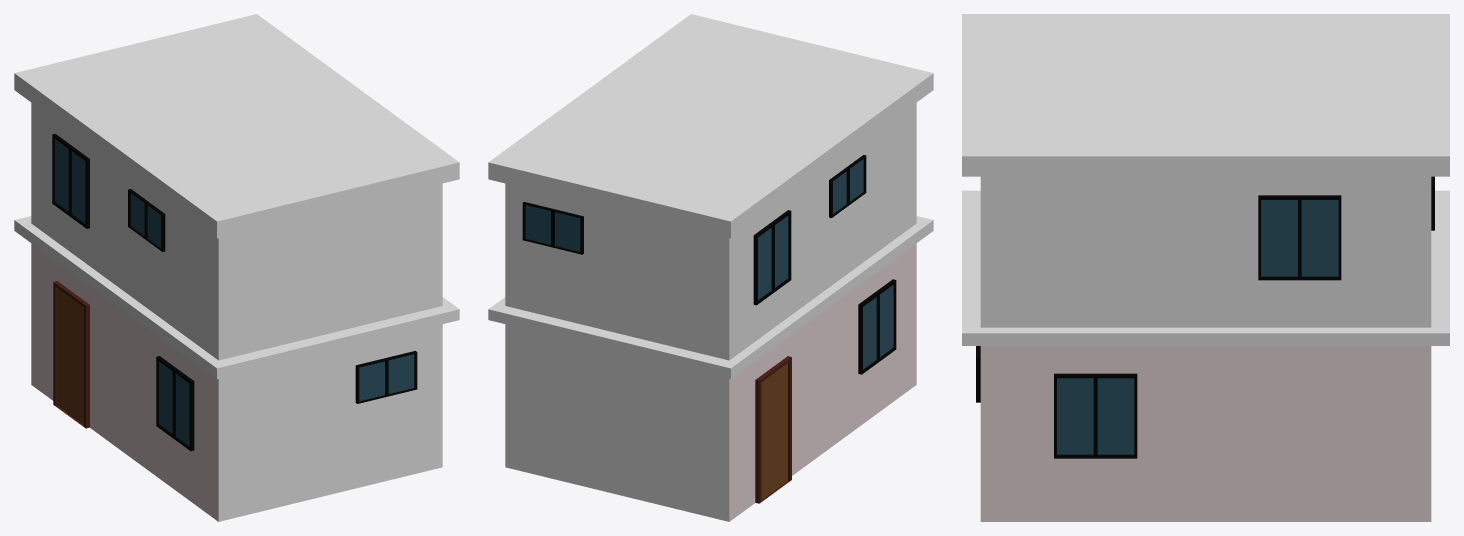
Rendered from Slum 4.fbx.
3 renders of one model, left to right at view 1: azimuth 30°, elevation 25°; view 2: azimuth 150°, elevation 25°; view 3: azimuth 270°, elevation 25°, orthographic. The views are drawn at different scales.
Parts seen in each view (by area): view 1: 1st Floor.004, 1st Floor.001, 1st Floor.003, 1st Floor.013, 1st Floor.014, Door.004, Window 1.008, Window 1.033, Window 2.007, Window 2.026; view 2: 1st Floor.004, 1st Floor.001, 1st Floor.003, 1st Floor.013, 1st Floor.014, Door.004, Window 1.008, Window 1.033, Window 2.008, Window 2.026; view 3: 1st Floor.004, 1st Floor.013, 1st Floor.014, Window 1.009, Window 1.010.
Part boxes in pixels (left/top/right/bottom): 1st Floor.004: left=14, top=14, right=459, bottom=379; 1st Floor.001: left=218, top=324, right=442, bottom=521; 1st Floor.003: left=218, top=183, right=442, bottom=360; 1st Floor.013: left=31, top=243, right=218, bottom=521; 1st Floor.014: left=31, top=103, right=218, bottom=360; Door.004: left=53, top=281, right=89, bottom=428; Window 1.008: left=156, top=356, right=194, bottom=451; Window 1.033: left=52, top=133, right=89, bottom=228; Window 2.007: left=355, top=351, right=417, bottom=403; Window 2.026: left=128, top=189, right=165, bottom=251; 1st Floor.004: left=488, top=14, right=933, bottom=379; 1st Floor.001: left=505, top=324, right=729, bottom=521; 1st Floor.003: left=505, top=183, right=729, bottom=360; 1st Floor.013: left=729, top=243, right=916, bottom=521; 1st Floor.014: left=729, top=103, right=916, bottom=360; Door.004: left=755, top=356, right=791, bottom=503; Window 1.008: left=858, top=279, right=896, bottom=374; Window 1.033: left=753, top=210, right=791, bottom=305; Window 2.008: left=522, top=202, right=583, bottom=254; Window 2.026: left=829, top=155, right=866, bottom=217; 1st Floor.004: left=962, top=14, right=1449, bottom=345; 1st Floor.013: left=980, top=346, right=1431, bottom=521; 1st Floor.014: left=980, top=176, right=1431, bottom=327; Window 1.009: left=1054, top=373, right=1137, bottom=458; Window 1.010: left=1258, top=195, right=1341, bottom=280.
Size of the model in its own units: 472 by 573 by 683.
